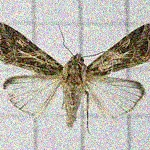Spodoptera litura: (1, 21, 150, 135)
